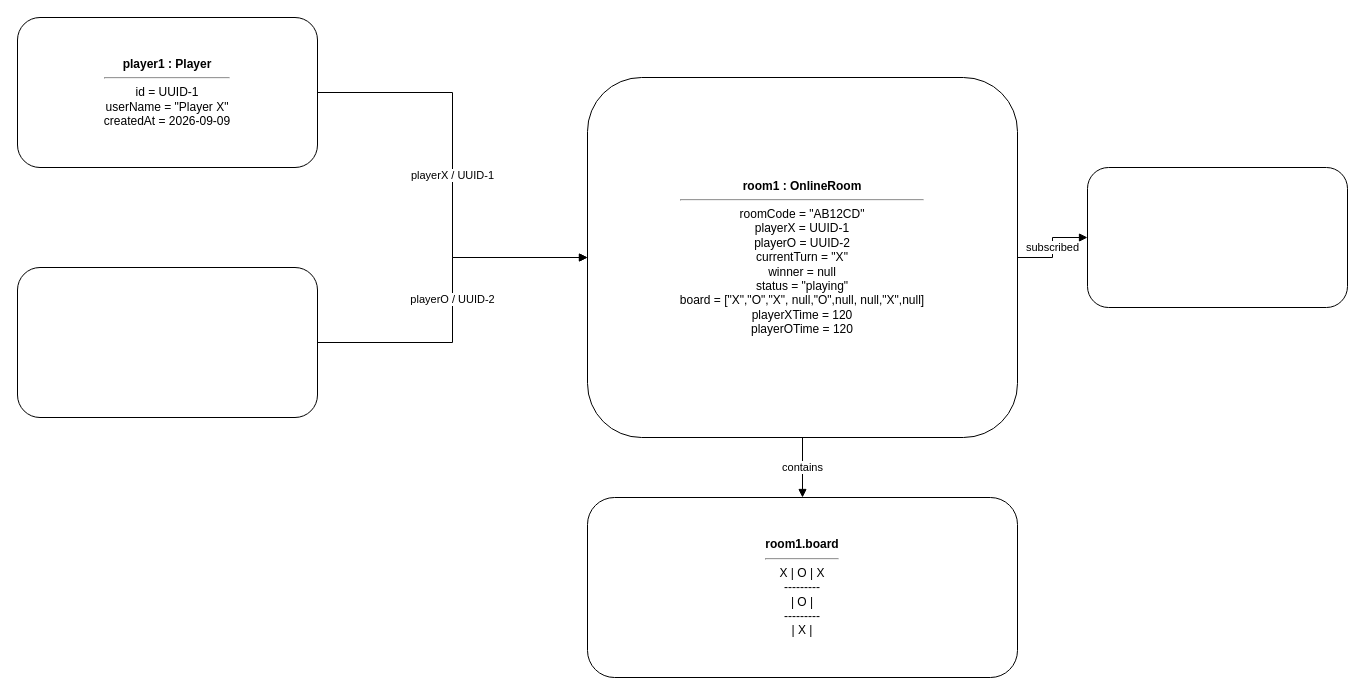
Image size: 1365x695. Some labels were removed from this diagram. The shapes that lost their labels are listed below. From the top down, each one's box as (x1, y1, x2, y2) in pixels, then its label:
(1086, 166, 1348, 308): Supabase Realtime room update subscription broadcasts DB changes
(16, 266, 318, 418): player2 : Player id = UUID-2 userName = "Player O" createdAt = 2026-09-09
